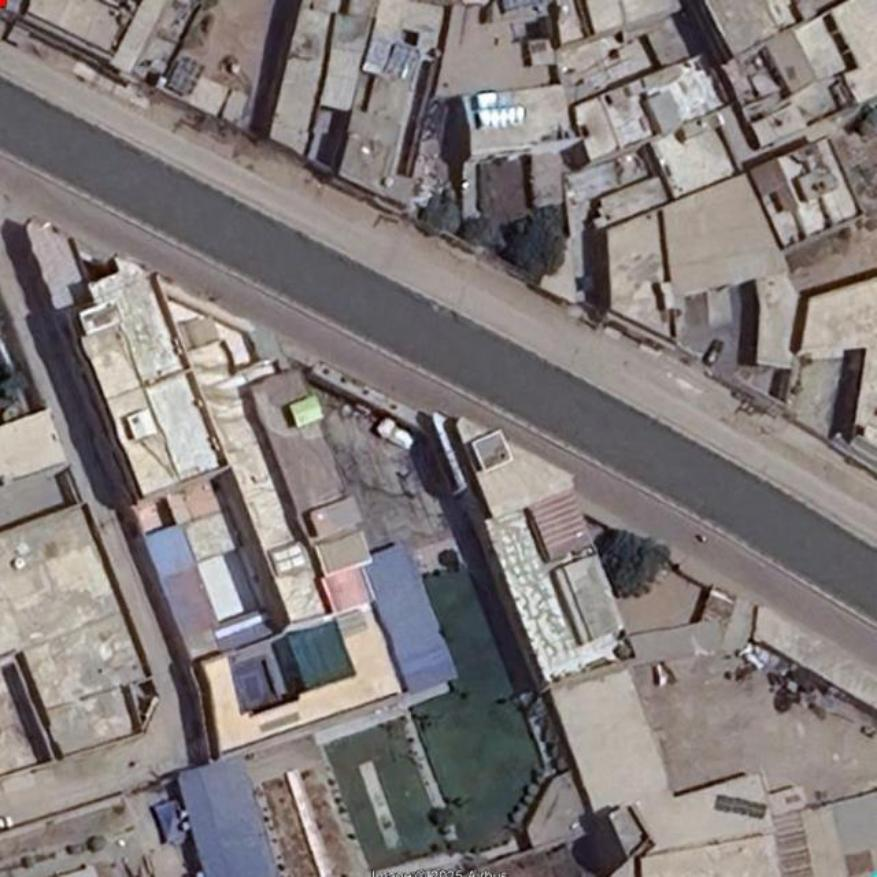Solarpanel: (168, 54, 205, 95), (715, 795, 767, 817)
